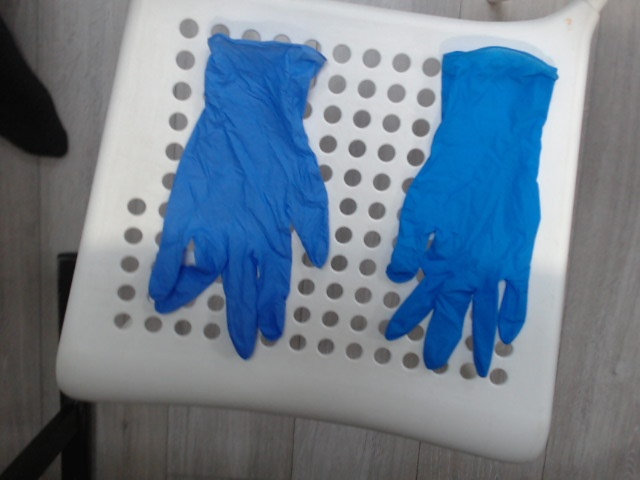medical_glove: (148, 34, 330, 359), (386, 47, 558, 371)
